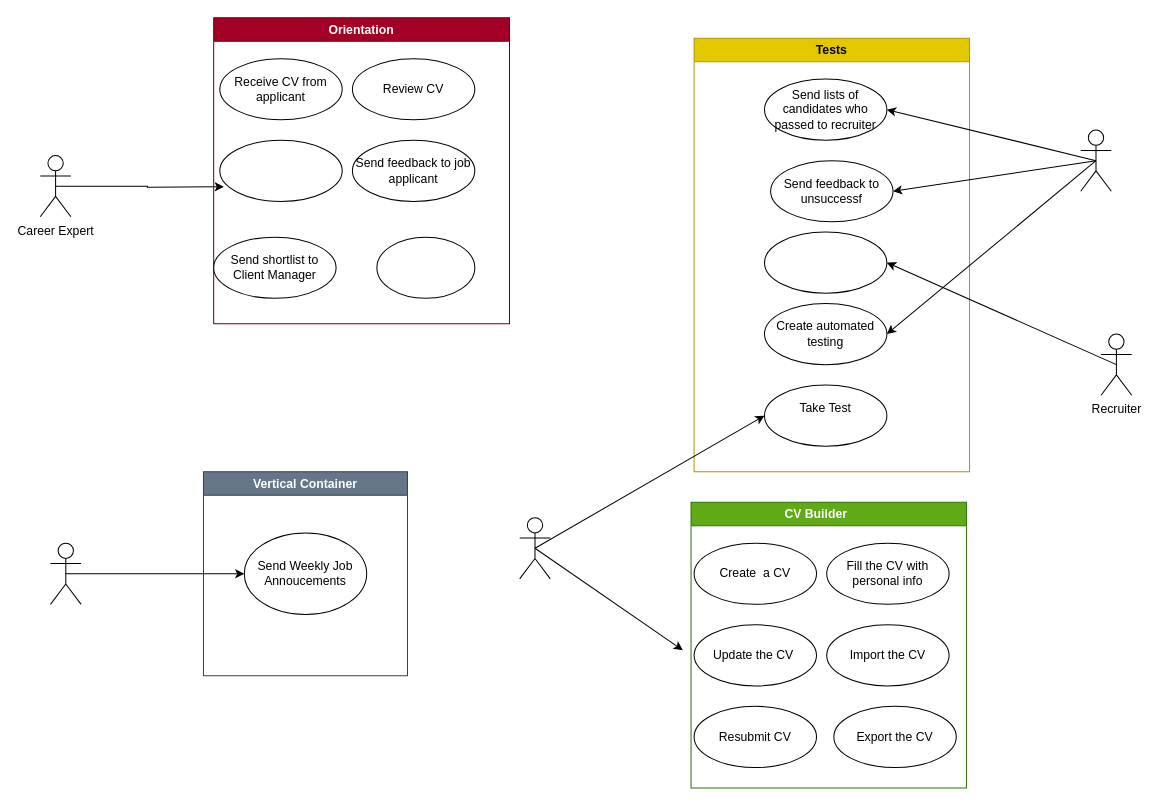
This 1159x806 diagram has some shape labels left out. The centre of each missing label's shape, as x and y in pixels:
"Add CV to shortlist" goes at (x=425, y=267).
"Client Manager" goes at (x=1095, y=160).
"Formalize Recommandations" goes at (x=280, y=170).
"Job Applicant" goes at (x=534, y=548).
"Receive shortlists" goes at (x=825, y=262).
"Time" goes at (x=65, y=573).
